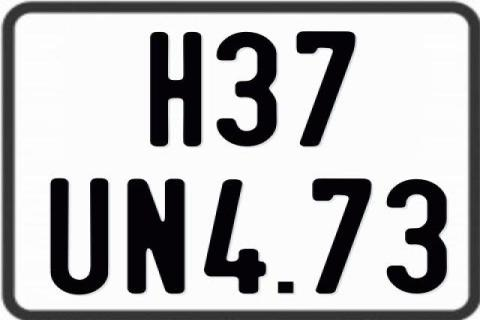0: (202, 177, 270, 293), (385, 179, 449, 299), (295, 31, 360, 149), (311, 176, 372, 293), (214, 29, 274, 145)
H: (150, 31, 206, 149)
N: (125, 177, 183, 293)
U: (47, 178, 106, 298)
